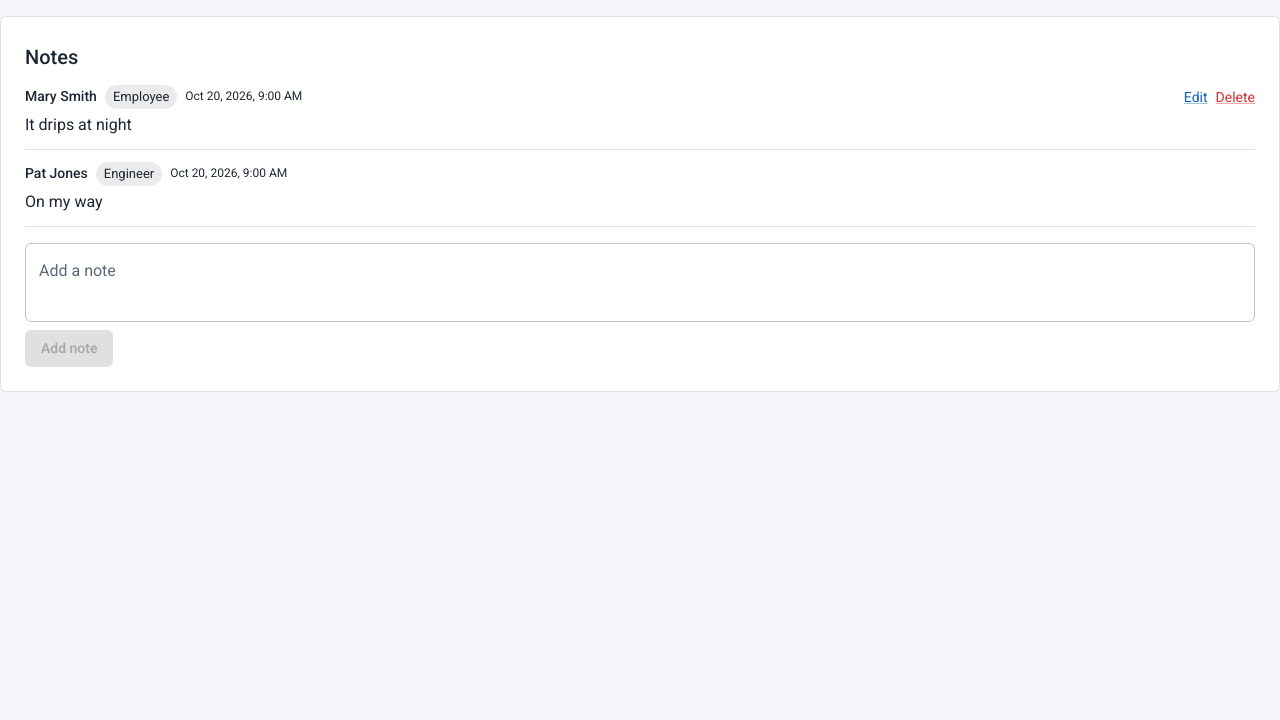
Test: TicketNotes › editing shows the change and marks it edited
This screenshot has width=1280, height=720.
Step 1. Click the button "Edit" → (1196, 97), box [1184,87,1208,107]
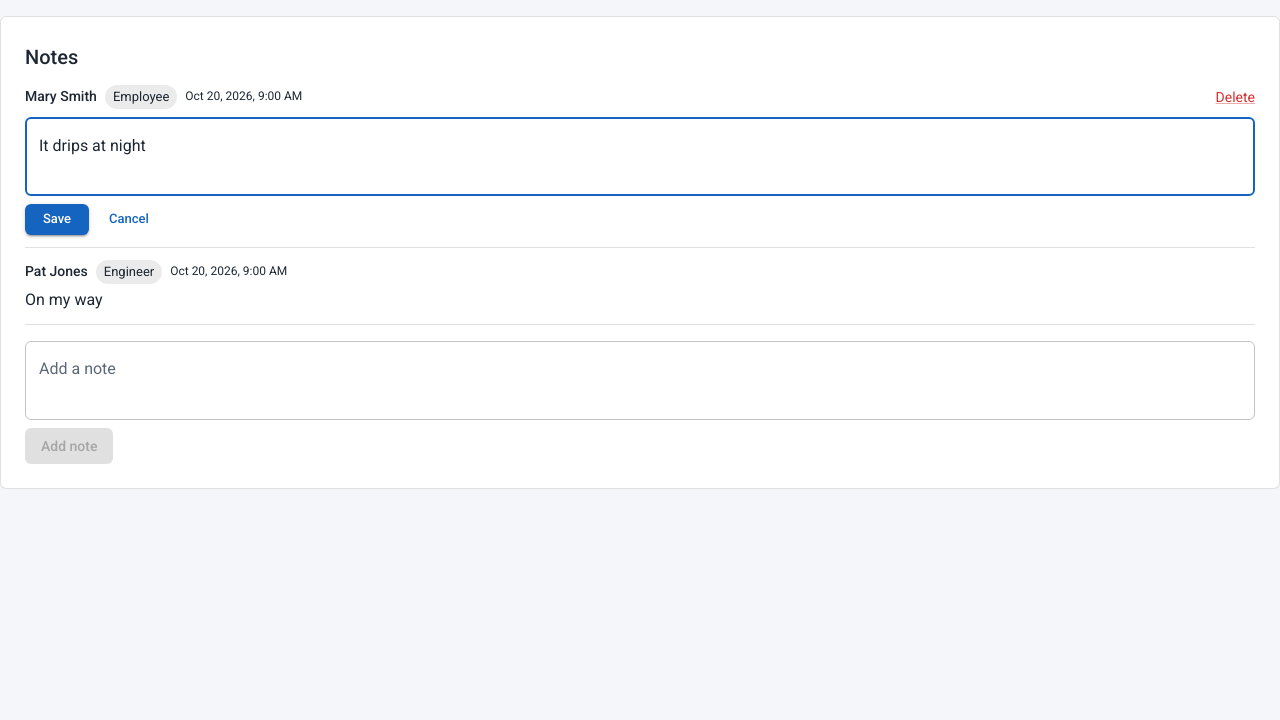
Step 2. Replace the text in the text box showing "It drips at night" with "It drips all day" → (640, 156), box [39,134,1241,180]
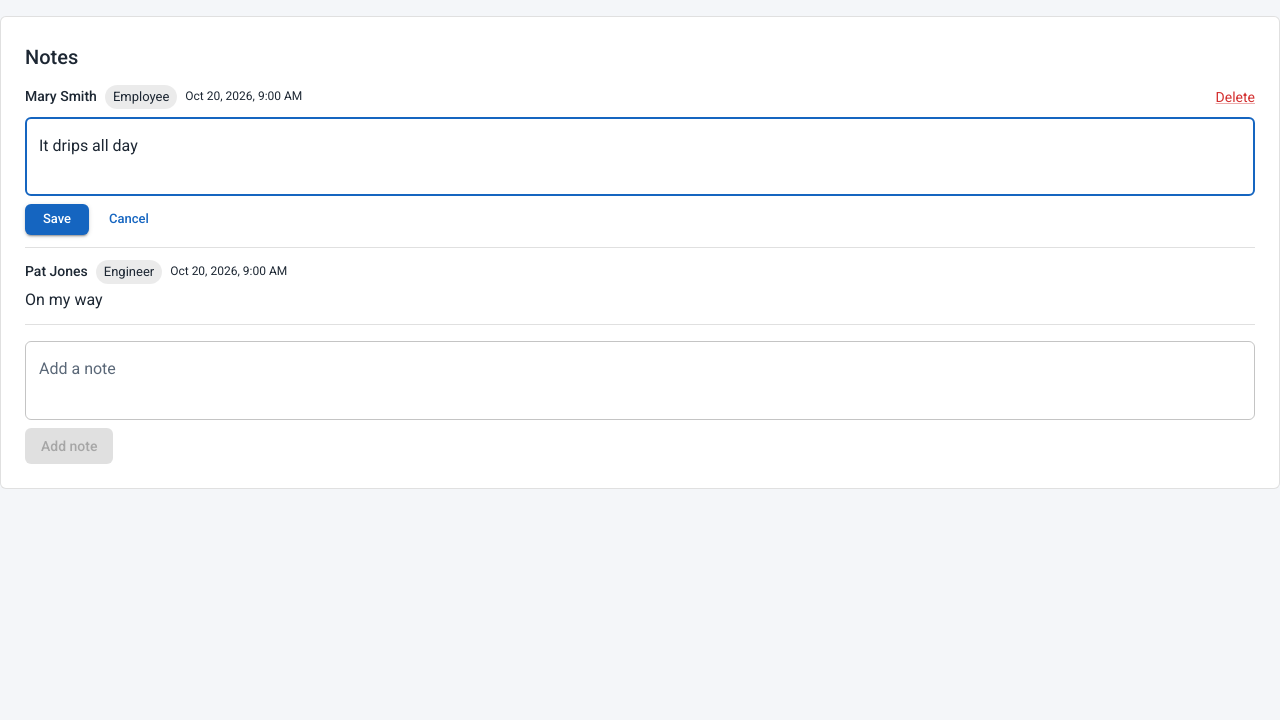
Step 3. Click the button "Save" → (57, 219), box [25,204,89,235]
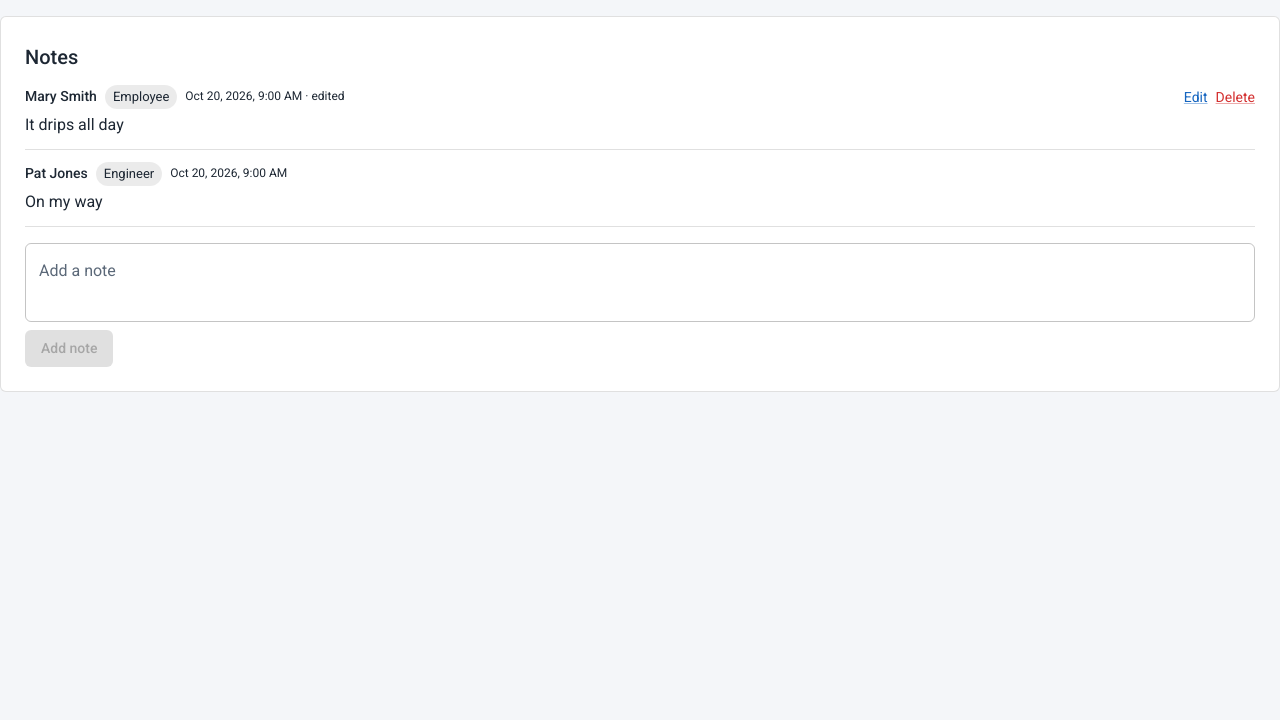
Check: the text "It drips all day" is shown, box [25,115,124,134]
Check: the text "Oct 20, 2026, 9:00 AM · edited" is shown, box [185,89,344,103]
